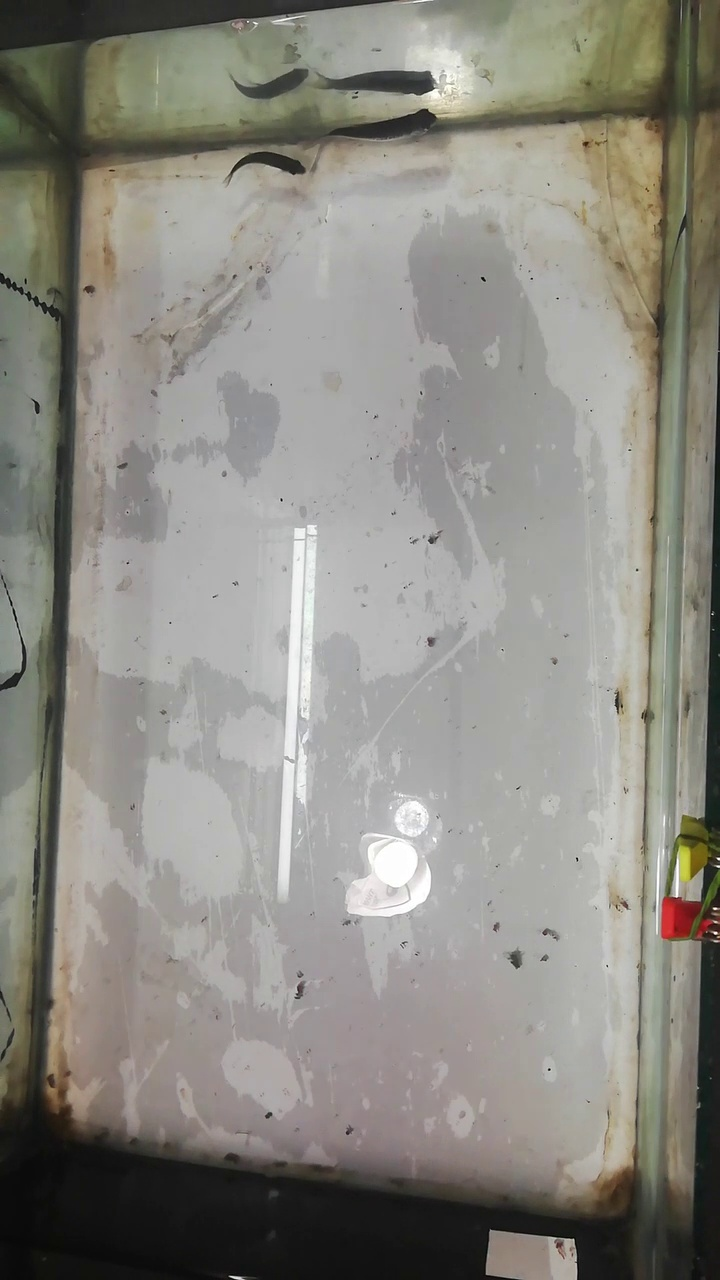fish1: (330, 109, 438, 139)
fish2: (230, 150, 310, 178)
